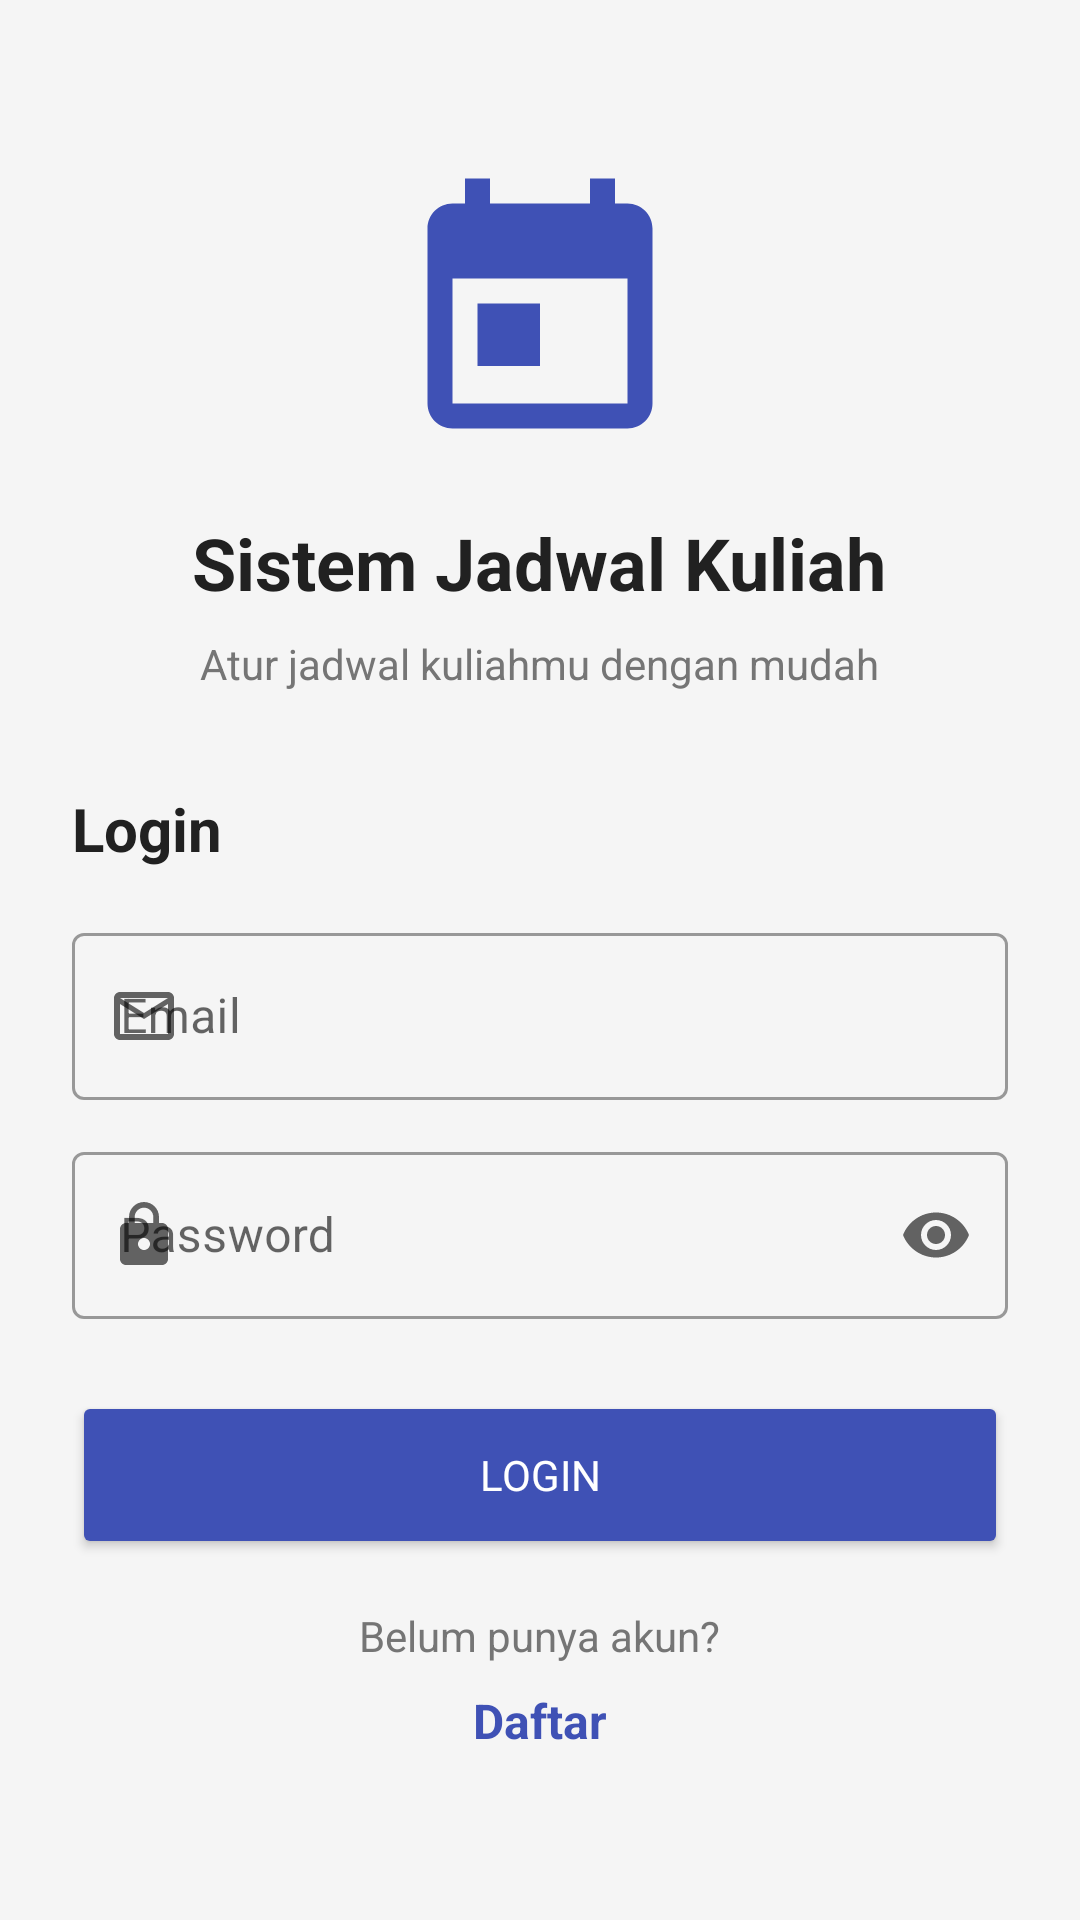

Icon bounding boxes for this 1080×1920 phone screenshot, format bbox=(x1, y1, x2, y2):
schedule: bbox=(427, 178, 653, 429)
